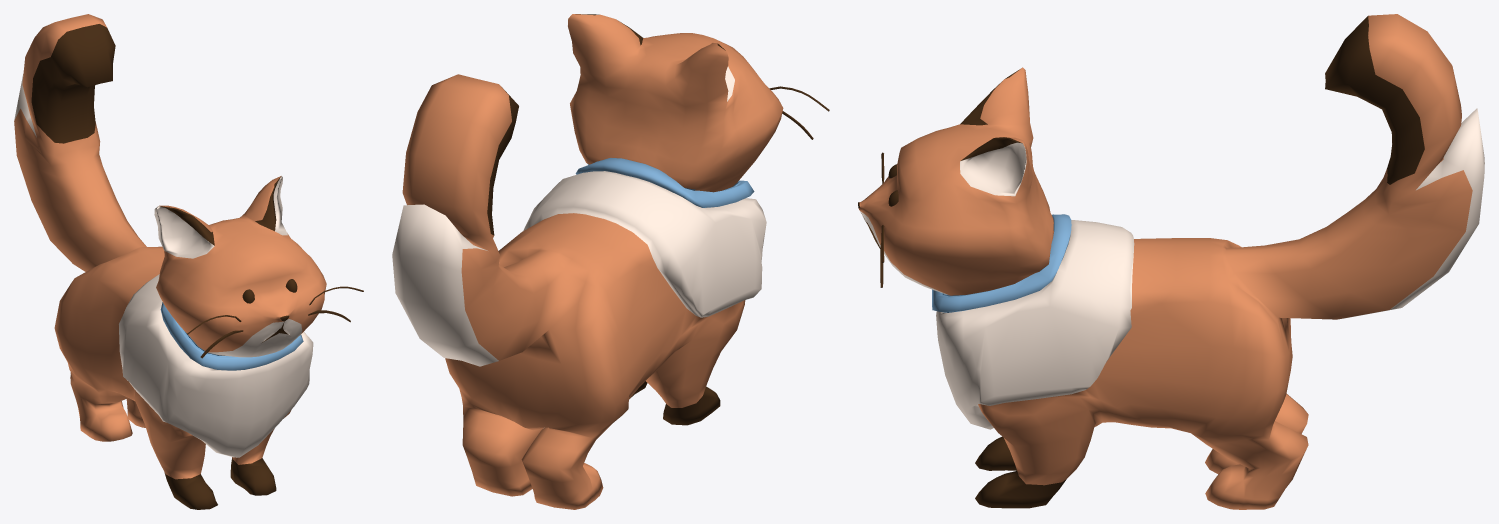
File: MainCatMesh.fbx
The picture shows the model from 3 angles, left to right: view 1: azimuth 30°, elevation 25°; view 2: azimuth 150°, elevation 25°; view 3: azimuth 270°, elevation 25°; orthographic projection. The views are drawn at different scales.
Parts seen in each view (by area): view 1: Cat; view 2: Cat; view 3: Cat.
Boxes of the visible parts, left/top/right/bottom form: Cat: left=14, top=14, right=363, bottom=509; Cat: left=392, top=14, right=829, bottom=509; Cat: left=858, top=14, right=1484, bottom=509.
Size of the model in its own units: 8.35 by 16.44 by 20.31.
Materials: 1 (1 with a texture image).
